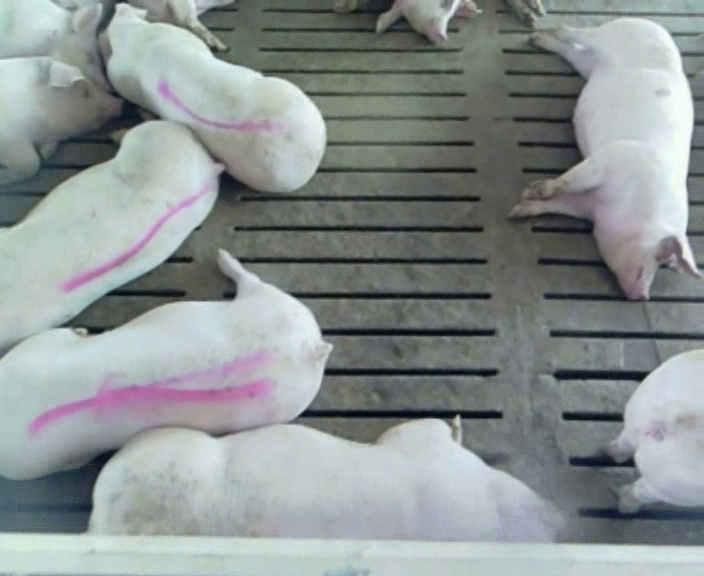pig: (0, 250, 330, 478), (89, 415, 563, 540), (0, 110, 222, 354), (508, 18, 700, 299), (99, 4, 325, 191), (607, 349, 703, 512), (0, 57, 121, 184), (130, 0, 226, 50), (376, 1, 481, 44)
